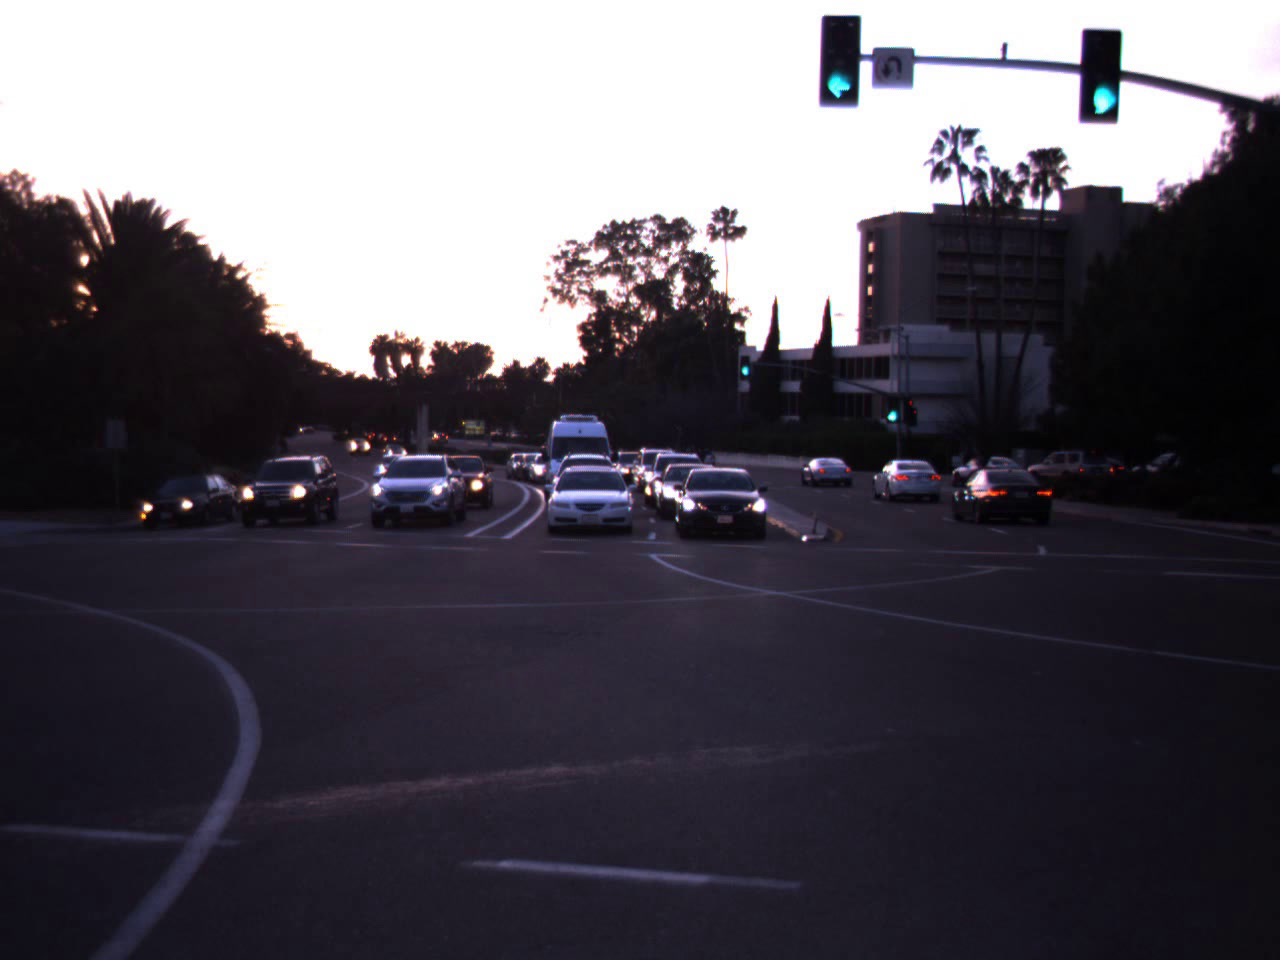go: (785, 0, 872, 115), (1074, 0, 1134, 125), (880, 391, 904, 421), (738, 347, 753, 377)
